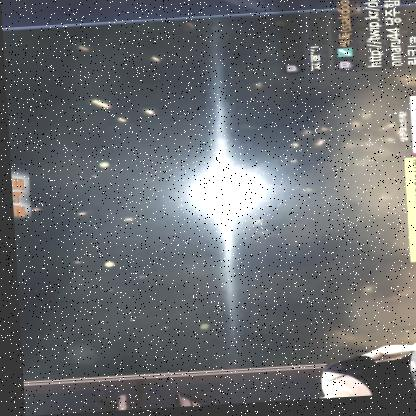streamer: (277, 335, 416, 404)
